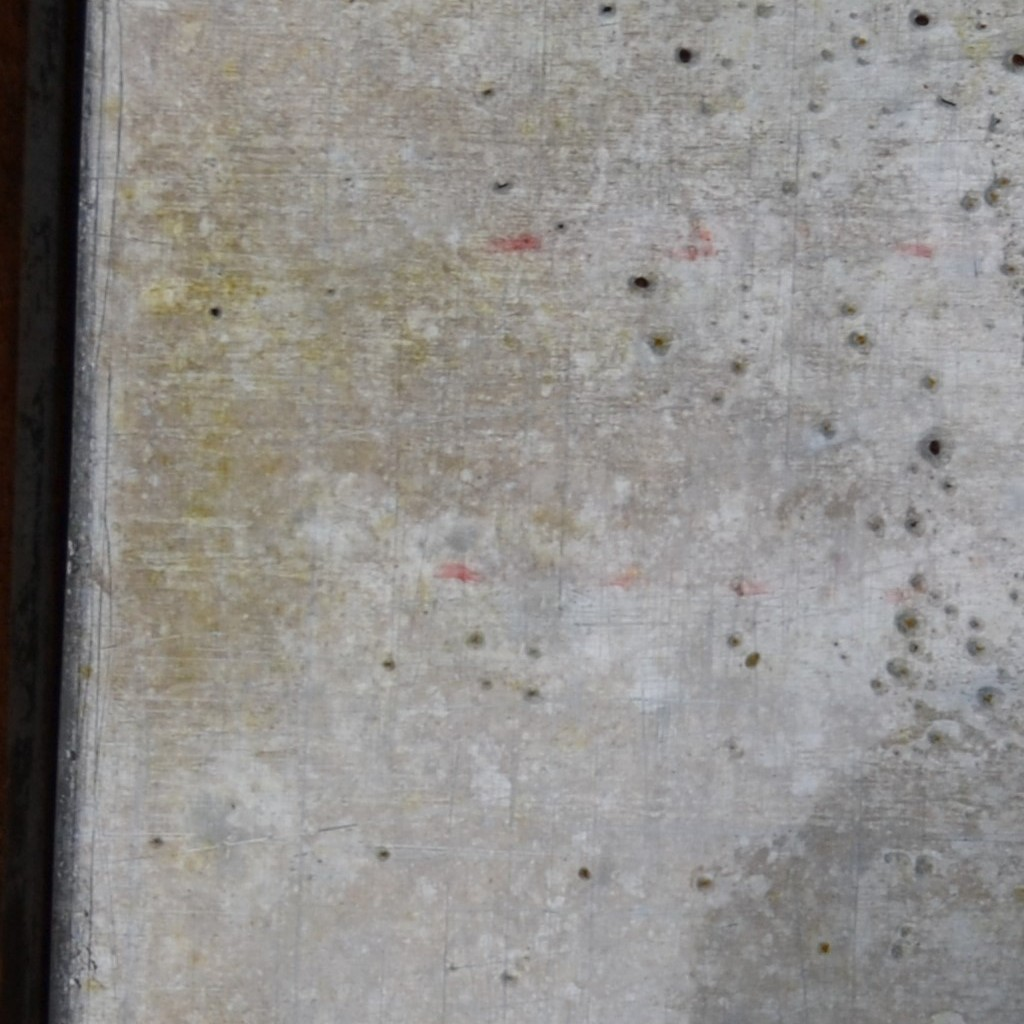varroa: (675, 43, 695, 66), (630, 274, 654, 293), (912, 11, 931, 29), (205, 302, 225, 319), (927, 437, 943, 457), (1010, 47, 1023, 71)
